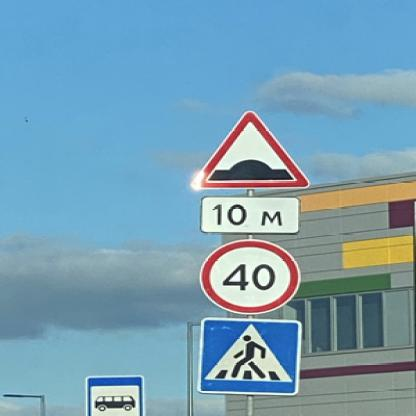crosswalk: (194, 316, 300, 396)
speedlimit: (197, 239, 299, 313)
